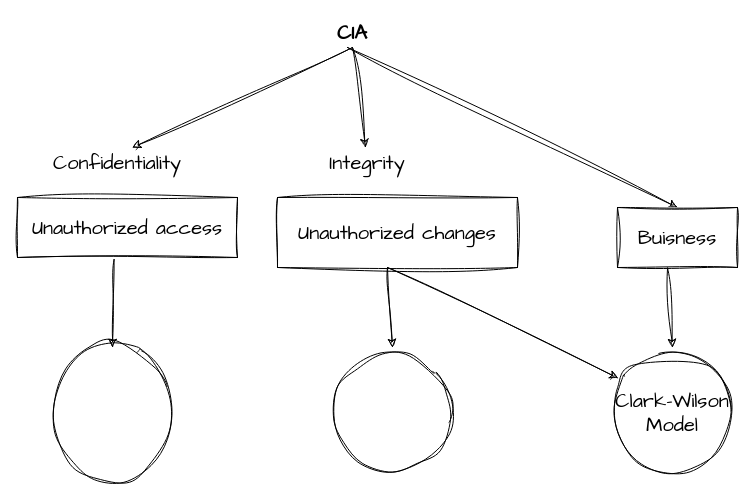
Some shapes in this 755 by 495 pixel diagram are drawn without their labels. Here are the shapes that lost their labels. From the top down, the centre of each, then its label:
At [112,412]: "The Bell LaPadula Model".
At [392,412]: "Biba Integrity Model".
